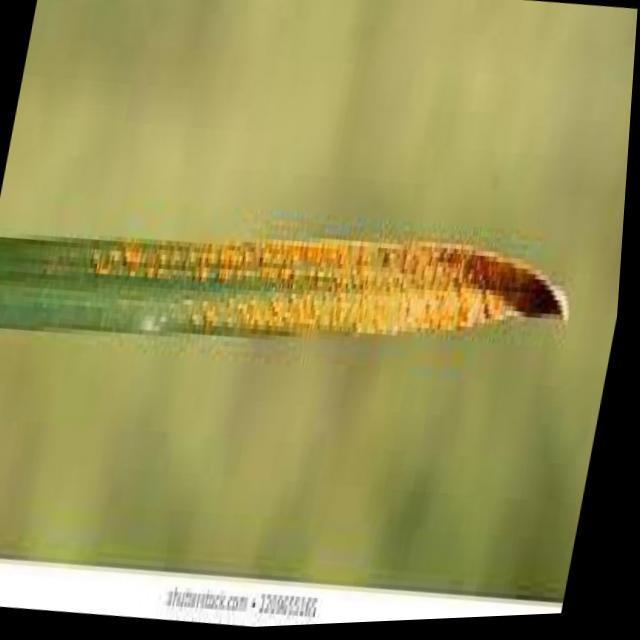Yellow Rust: (0, 235, 571, 345)
